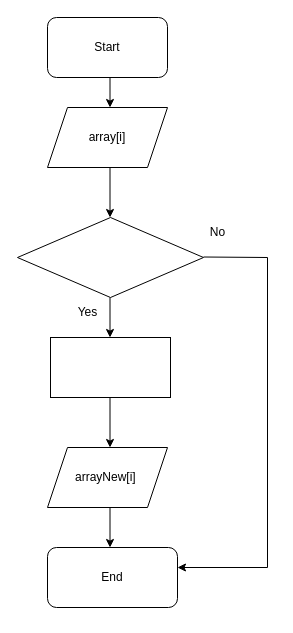
Some shapes in this 293 by 633 pixel diagram are drawn without their labels. The centre of each missing label's shape, as x and y in pixels:
"array[i].length <= 3" belongs at point (110, 257).
"arrayNew[i] = array[i]" belongs at point (110, 367).
